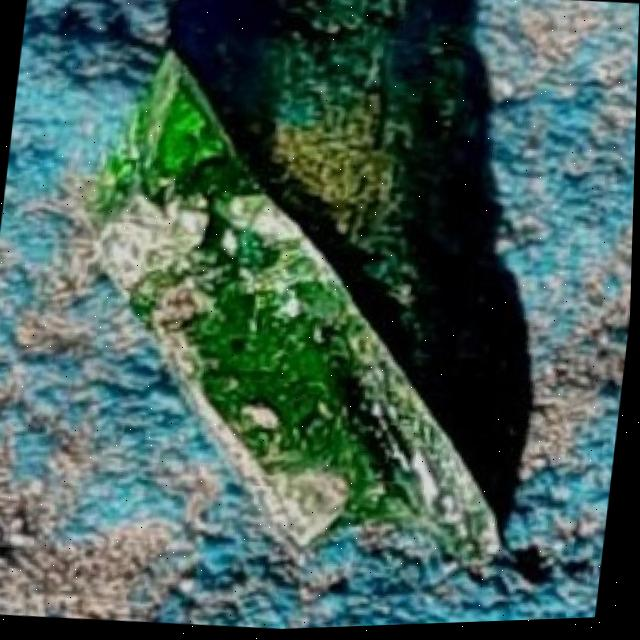Dry: (67, 45, 477, 522)
